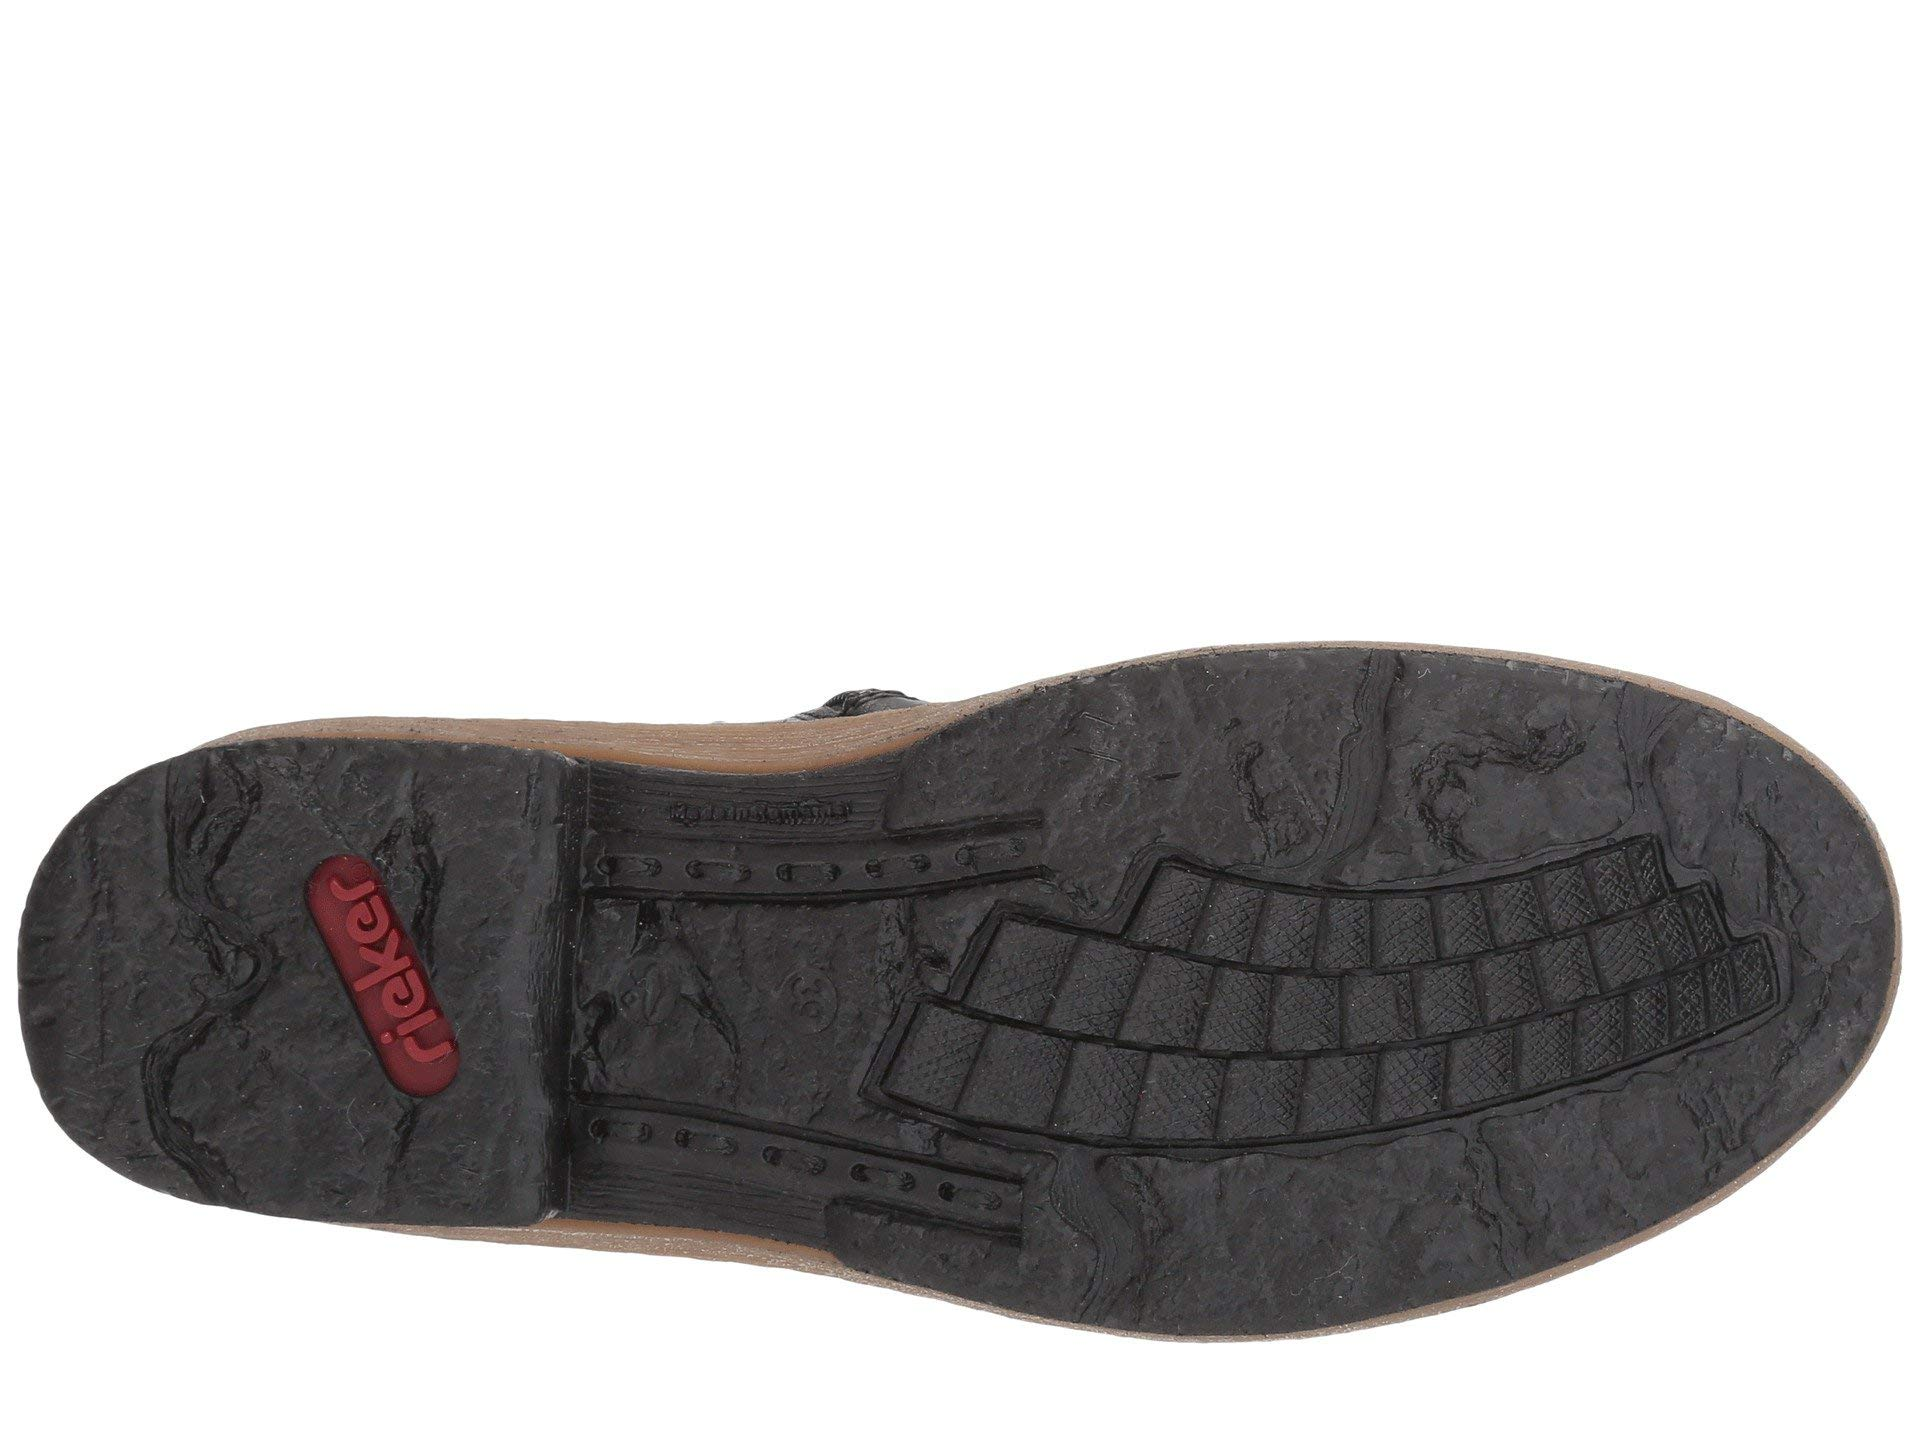circle: (240, 830, 540, 1201)
quad: (1122, 823, 1538, 1221)
text: (240, 830, 540, 1201)
